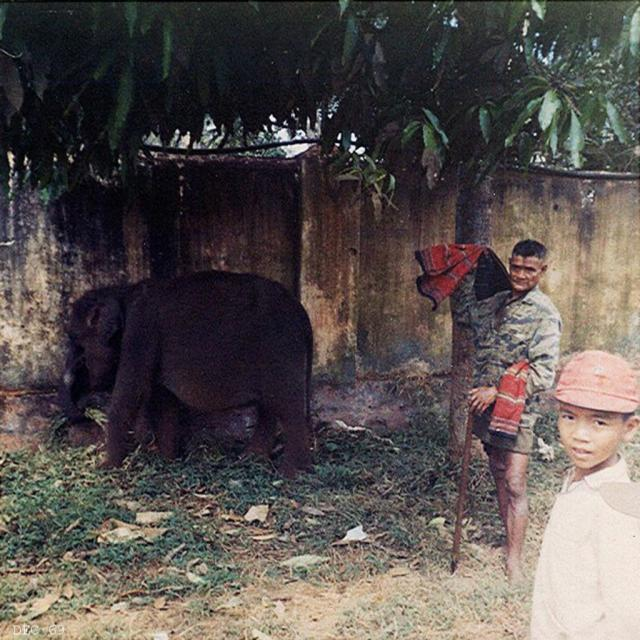elephant: (68, 274, 331, 485)
